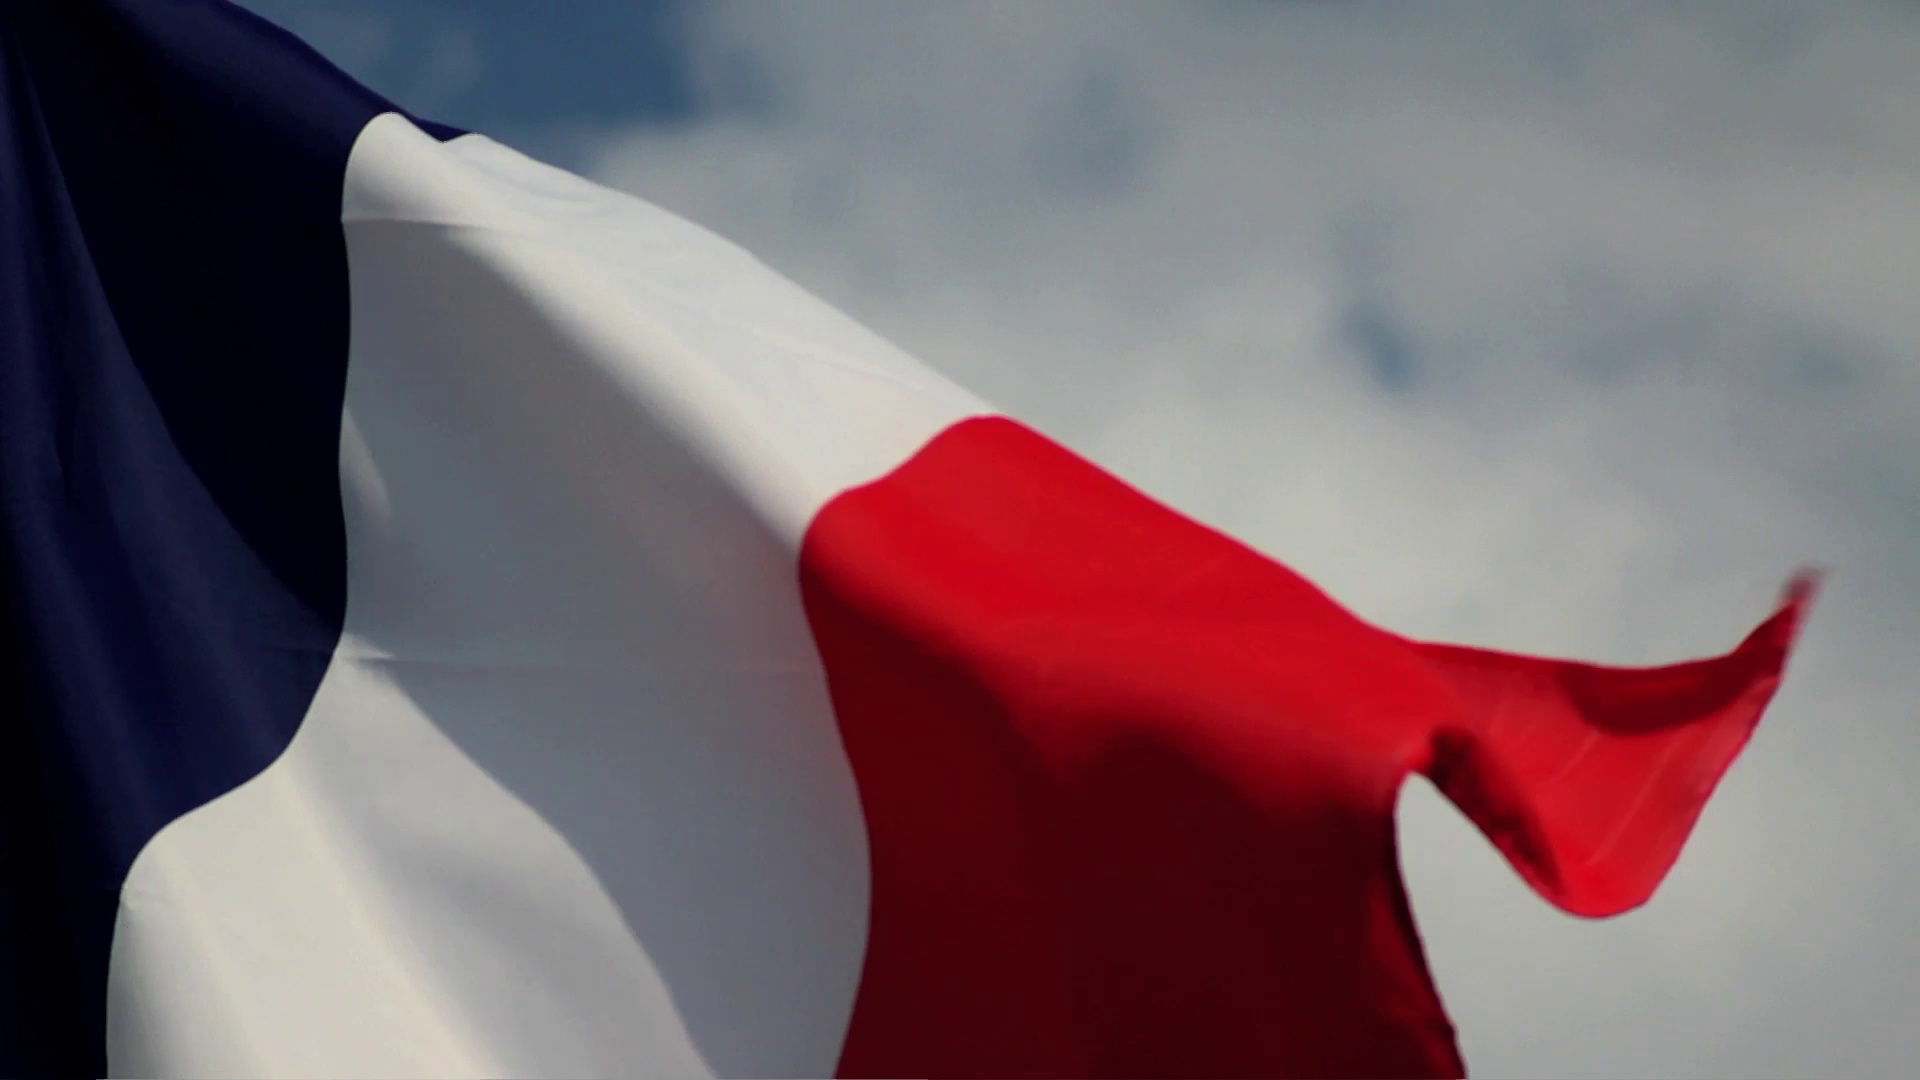French Flag: (1, 1, 1834, 1080)
